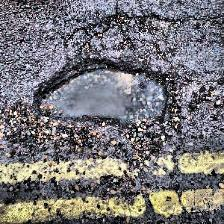pothole: (32, 55, 178, 134)
